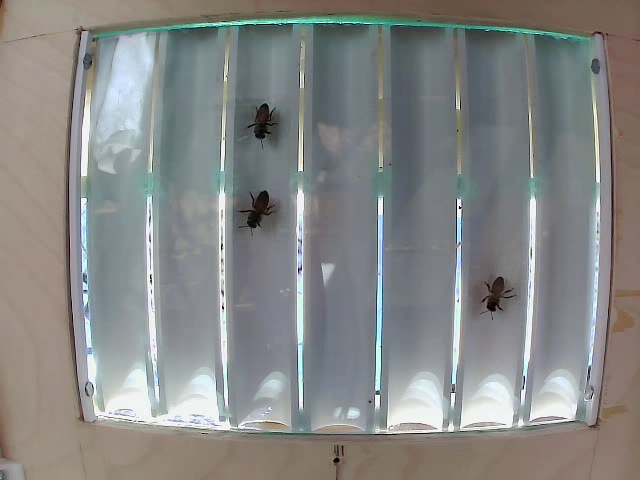bee: (231, 180, 277, 237), (482, 257, 518, 318), (244, 94, 281, 145)
